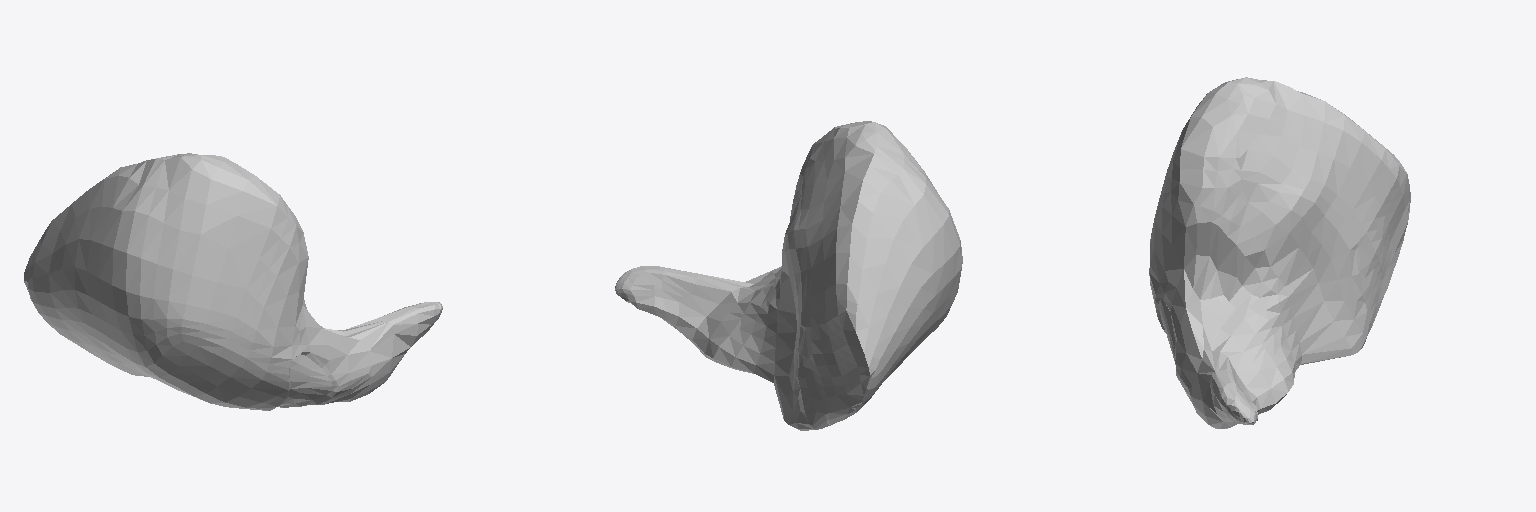
Rendered from liver_canine.obj.
The picture shows the model from 3 angles: view 1: azimuth 30°, elevation 25°; view 2: azimuth 150°, elevation 25°; view 3: azimuth 270°, elevation 25°; orthographic projection.
Parts seen in each view (by area): view 1: liver_canine_liver.007; view 2: liver_canine_liver.007; view 3: liver_canine_liver.007.
Part boxes in pixels (left/top/right/bottom): liver_canine_liver.007: left=24, top=153, right=442, bottom=410; liver_canine_liver.007: left=615, top=121, right=962, bottom=430; liver_canine_liver.007: left=1149, top=77, right=1410, bottom=428.
Bounding box in the file's own units: 12.82 × 9.82 × 8.62.